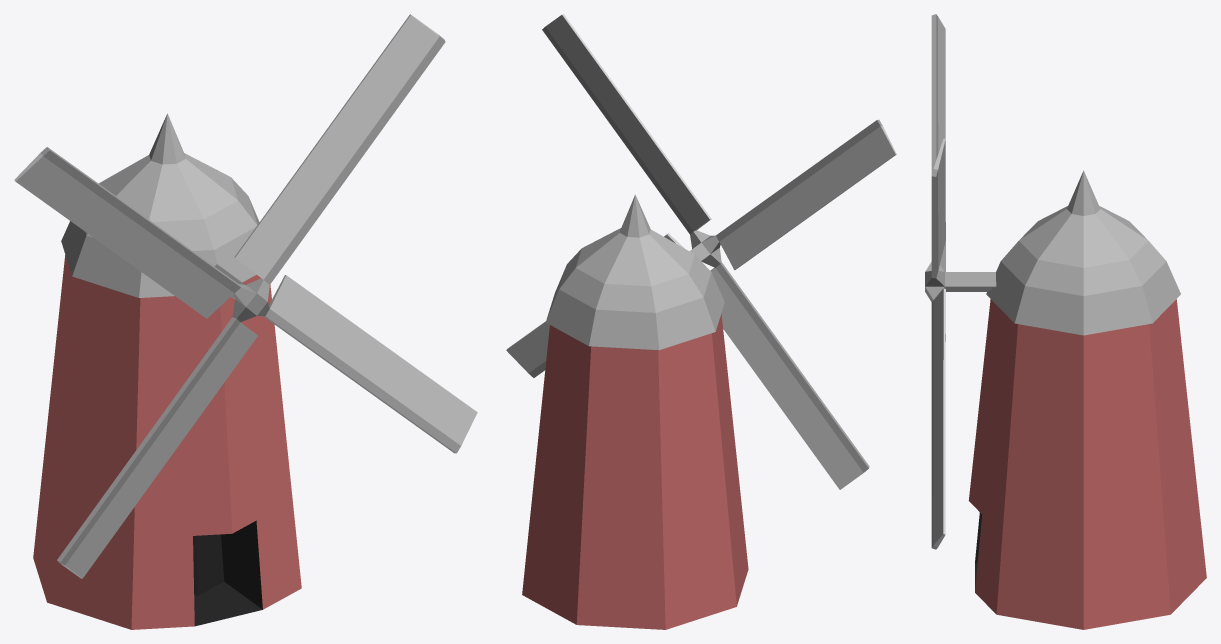
The model's file is Windmill2.fbx.
3 renders of one model, left to right at view 1: azimuth 30°, elevation 25°; view 2: azimuth 150°, elevation 25°; view 3: azimuth 270°, elevation 25°, orthographic. The views are drawn at different scales.
Parts seen in each view (by area): view 1: Cylinder, Cylinder.001; view 2: Cylinder, Cylinder.001; view 3: Cylinder, Cylinder.001.
Boxes of the visible parts, x1,y1,x2,y2 form: Cylinder: (33,113,301,629); Cylinder.001: (14,14,477,578); Cylinder: (522,194,748,629); Cylinder.001: (506,14,896,489); Cylinder: (968,170,1206,629); Cylinder.001: (925,14,996,549).
Size of the model in its own units: 13.82 by 16.45 by 8.23.
